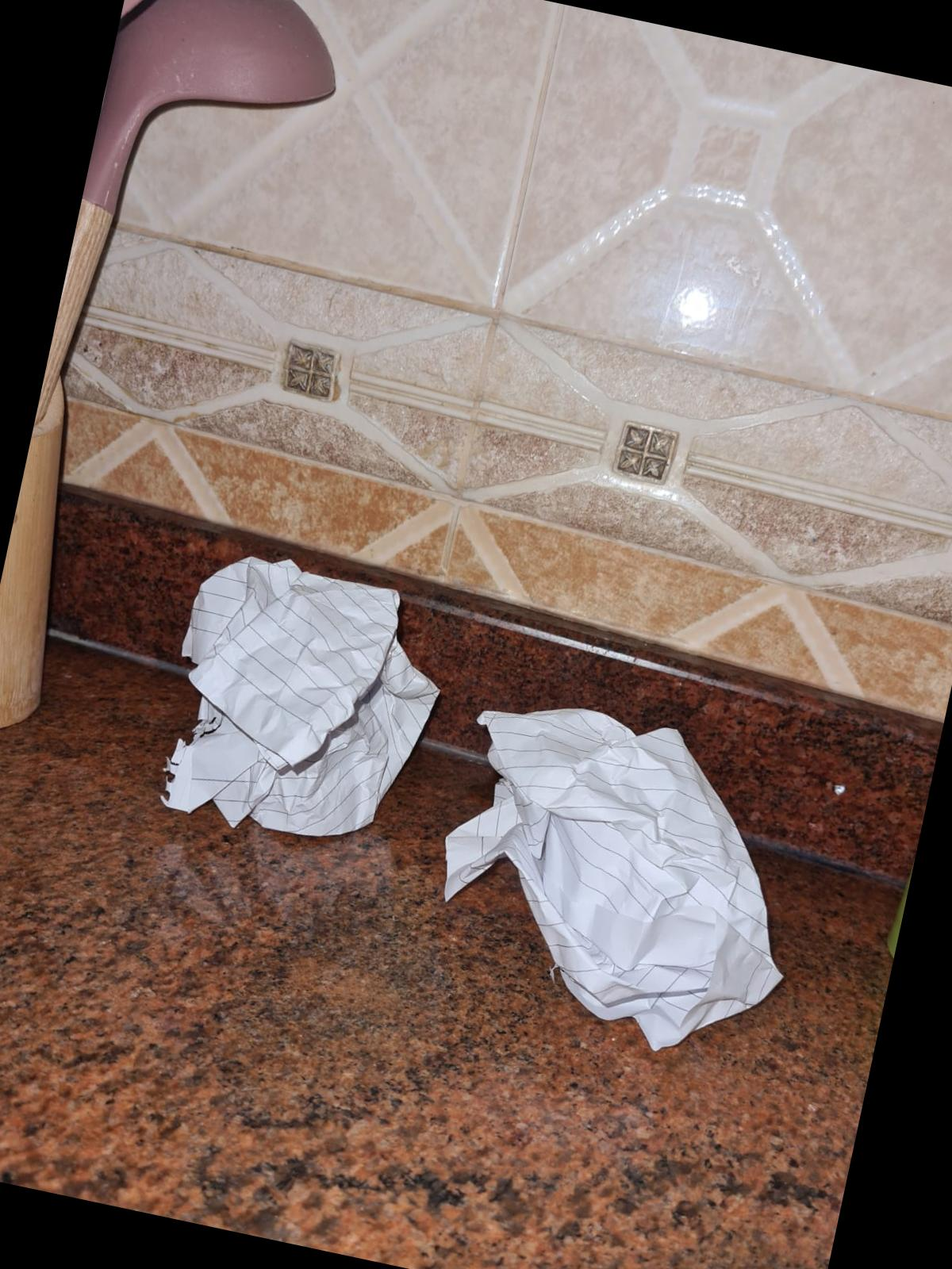Kertas: (423, 710, 796, 1057), (155, 545, 454, 842)
